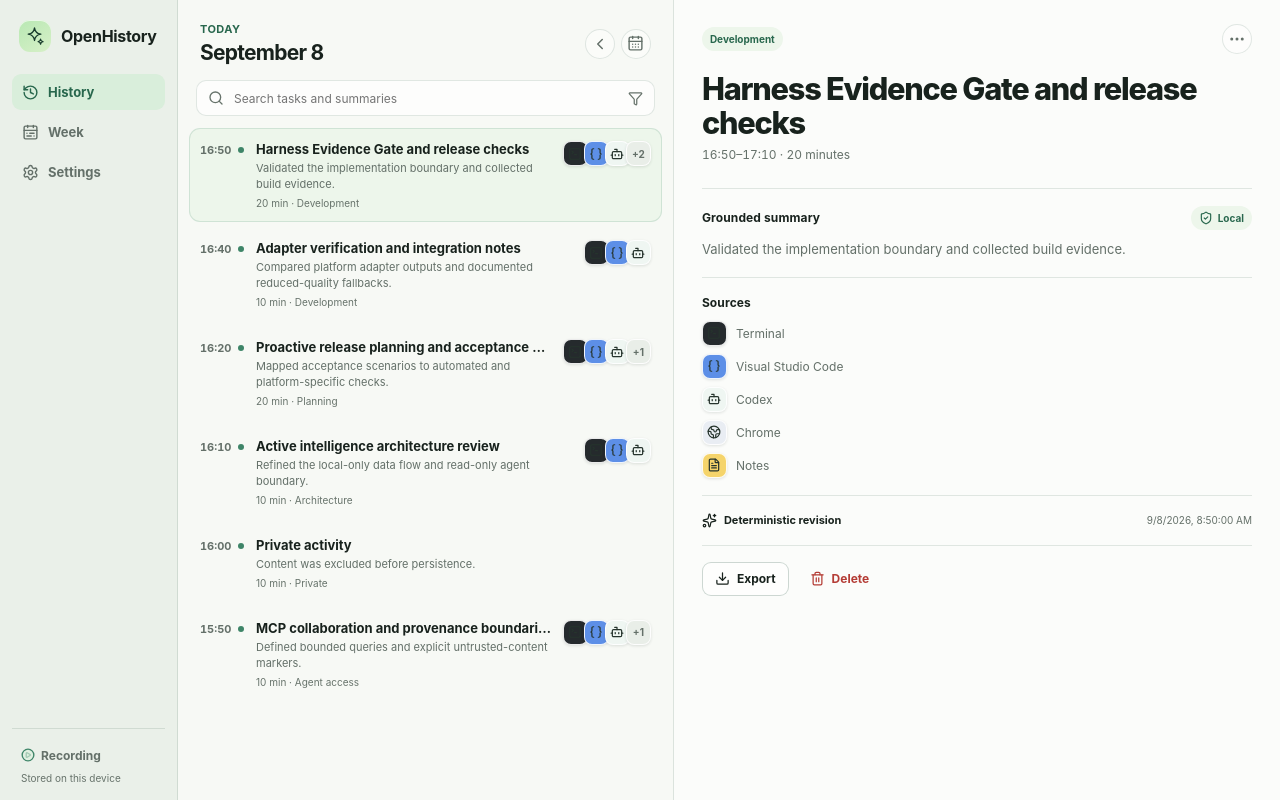
Test case: FullHistoryView › opens a scoped destructive confirmation and cancels safely
Click the button "Delete" at (839, 579), box [797, 562, 882, 596]
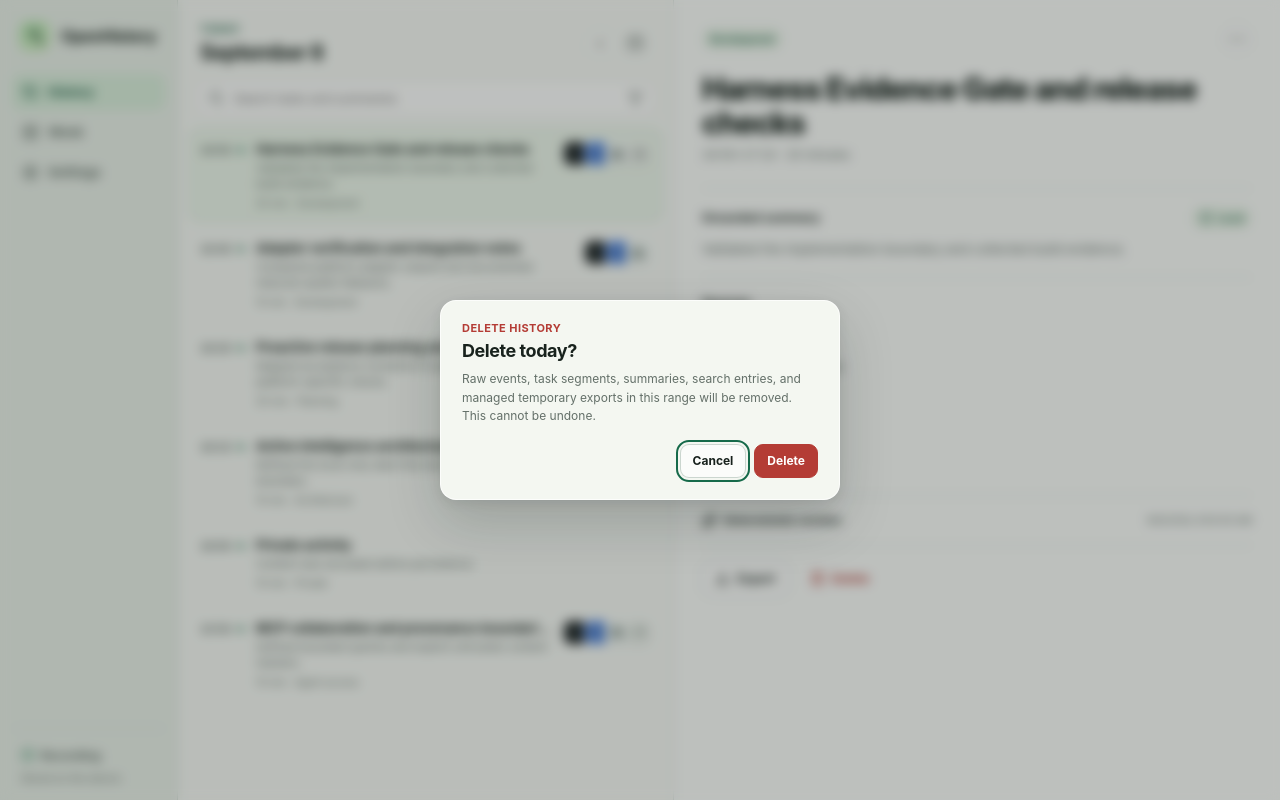
Expected: the dialog shows "Delete today?", [440, 300, 840, 500]
Expected: the dialog shows "Raw events", [462, 371, 801, 423]
Click the button "Cancel" at (713, 461), box [680, 444, 746, 478]
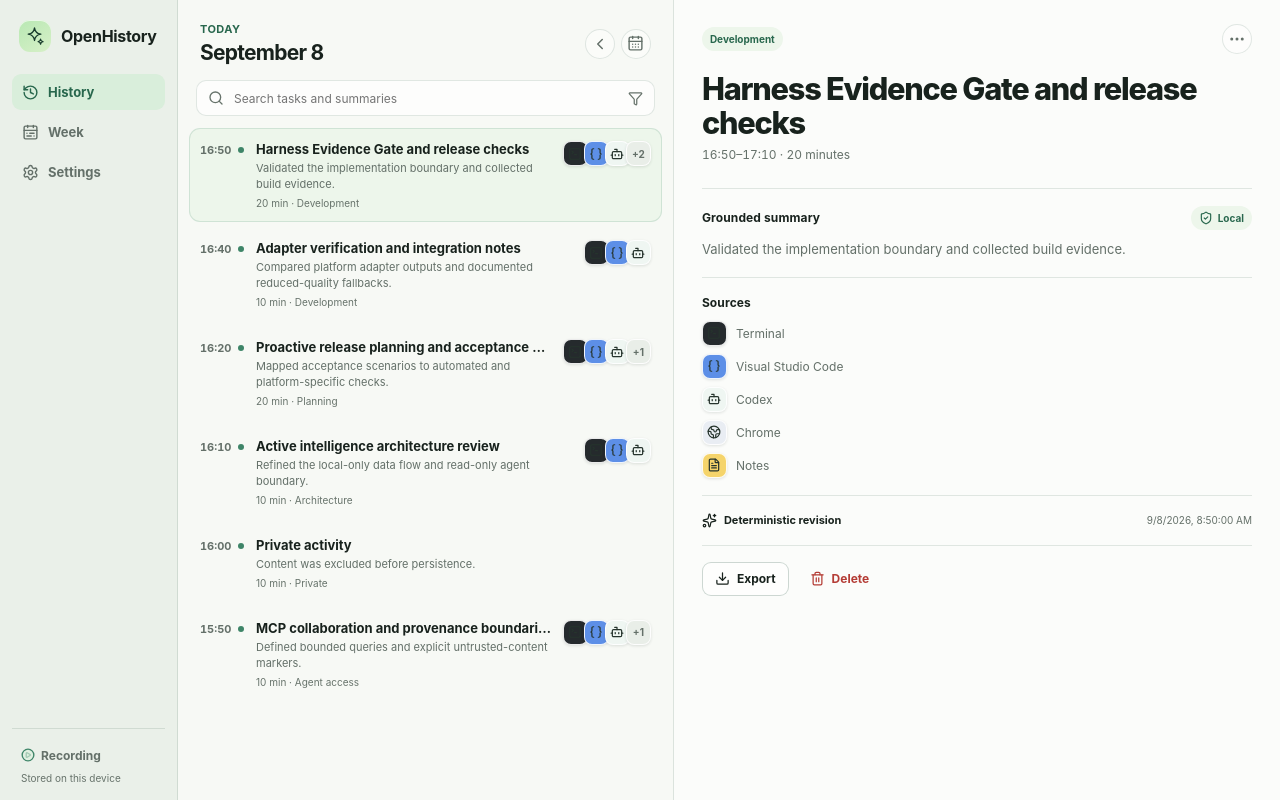
Expected: the dialog is gone
